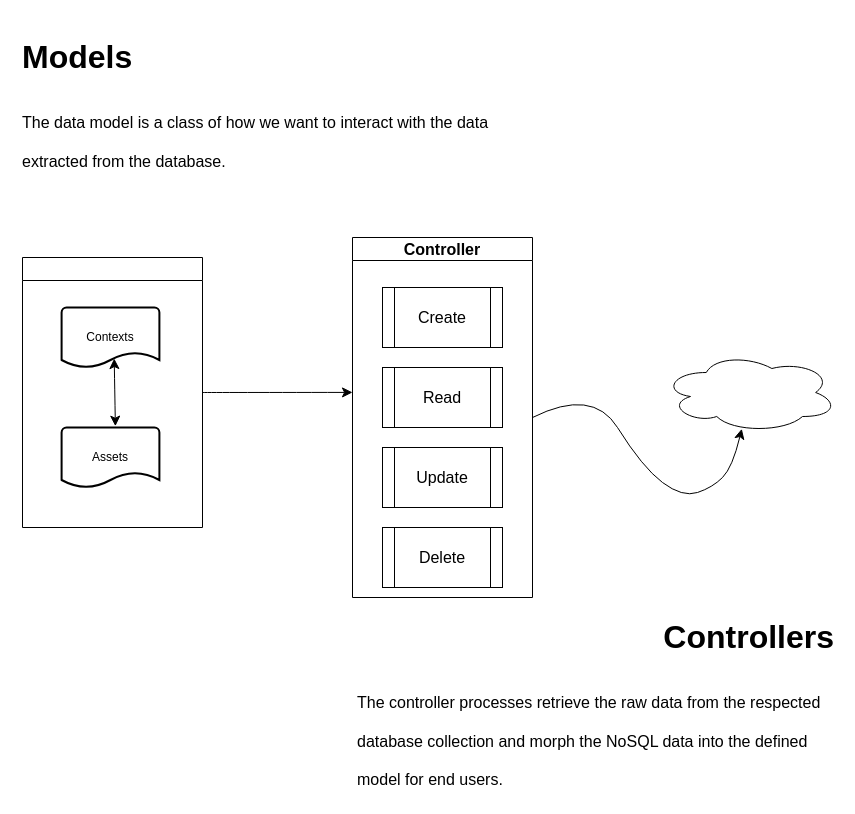
The diagram is 855 pixels wide and 814 high, and some of its shapes have lost their labels. Here are the shapes that lost their labels. From the top down, the centre of each, then its label:
At (112,392): "Models".
At (750,392): "MongoDB".
